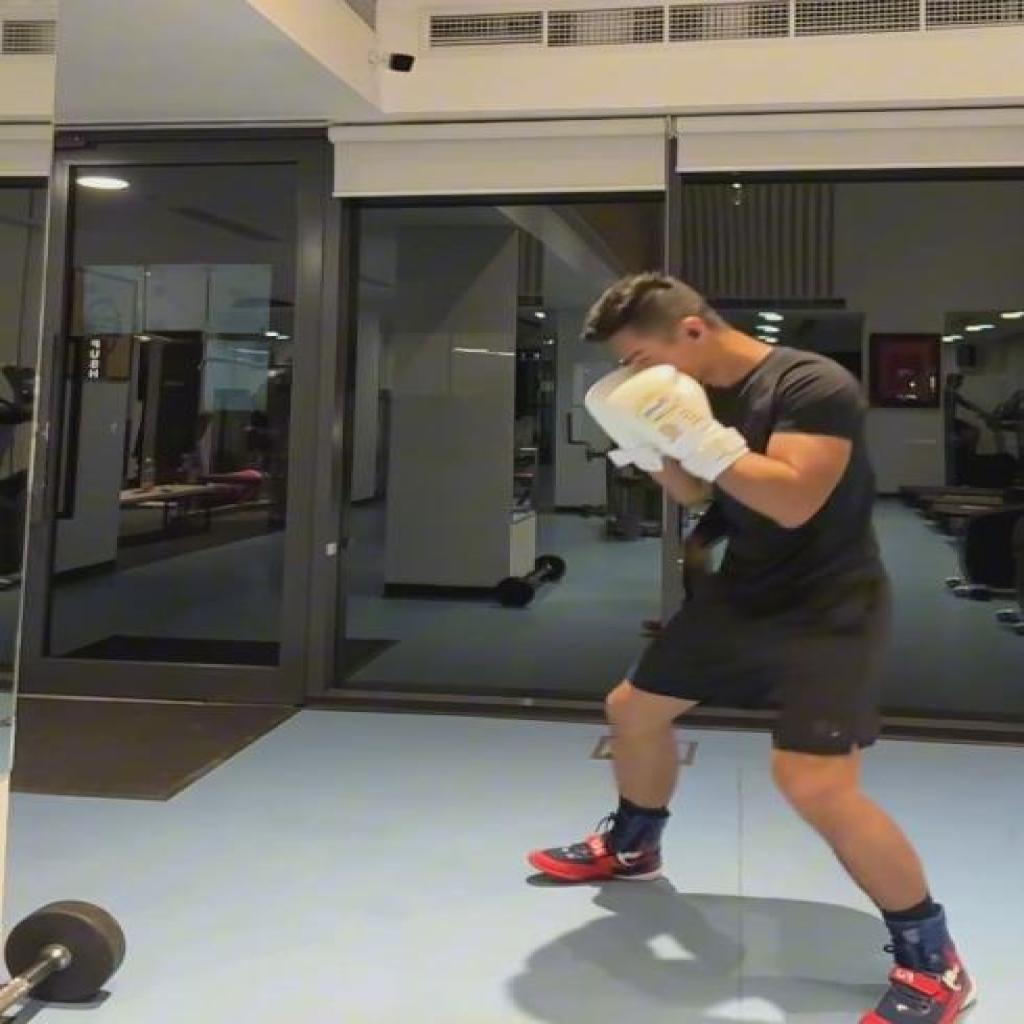no punch: (531, 272, 976, 1024)
